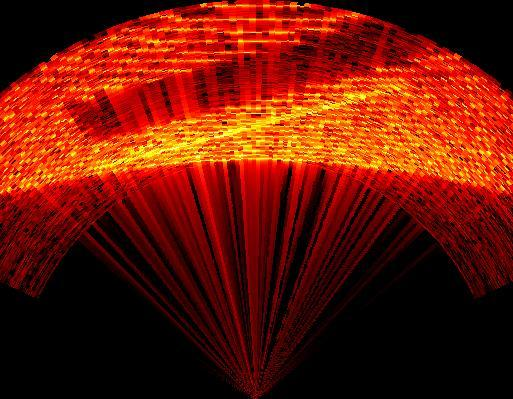pipe: (68, 22, 418, 142)
